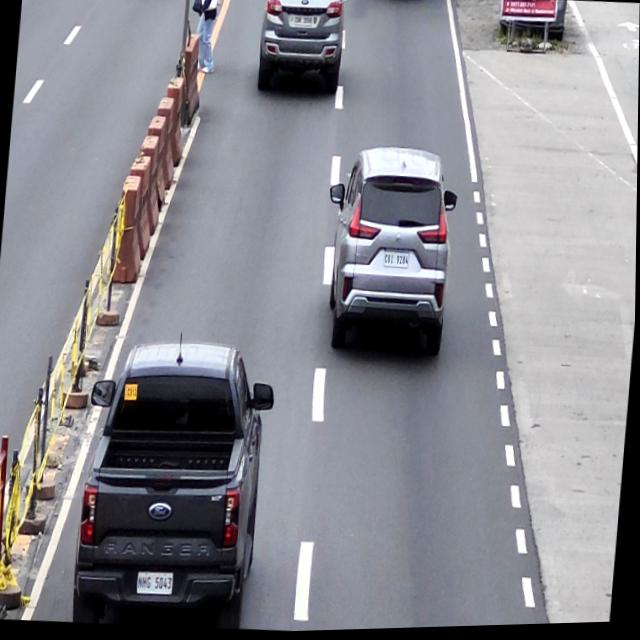Car: (71, 337, 280, 635), (317, 141, 463, 363), (253, 0, 346, 101)
License-Plate: (137, 572, 175, 598), (382, 250, 410, 272), (293, 15, 314, 28)
